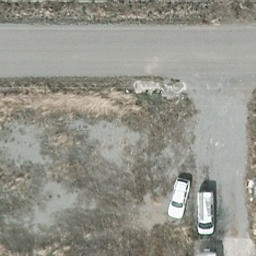car: (161, 176, 192, 222)
van: (196, 192, 216, 237)
